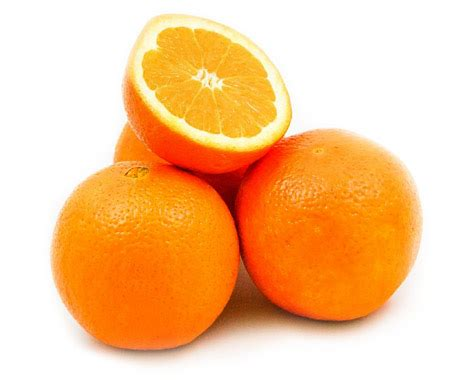orange: (233, 125, 427, 325), (46, 157, 241, 353)
